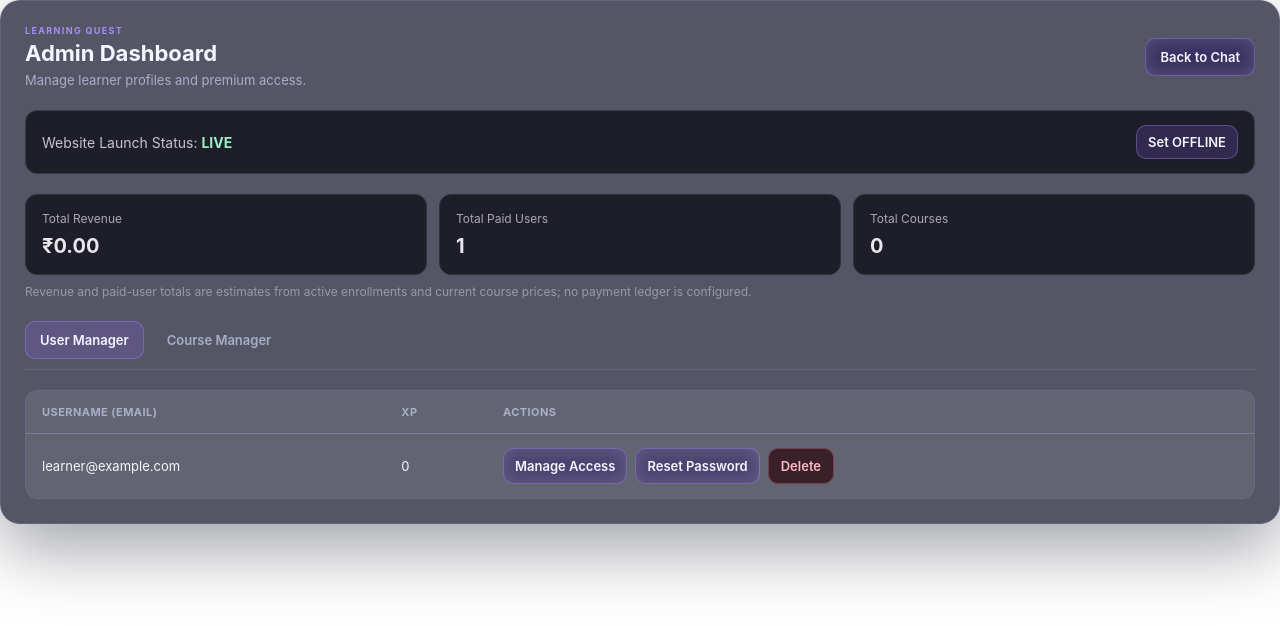
Scenario: confirms user deletion through the protected backend endpoint
This screenshot has width=1280, height=626.
Click the button "Delete" at (801, 466), box [768,448,834,484]
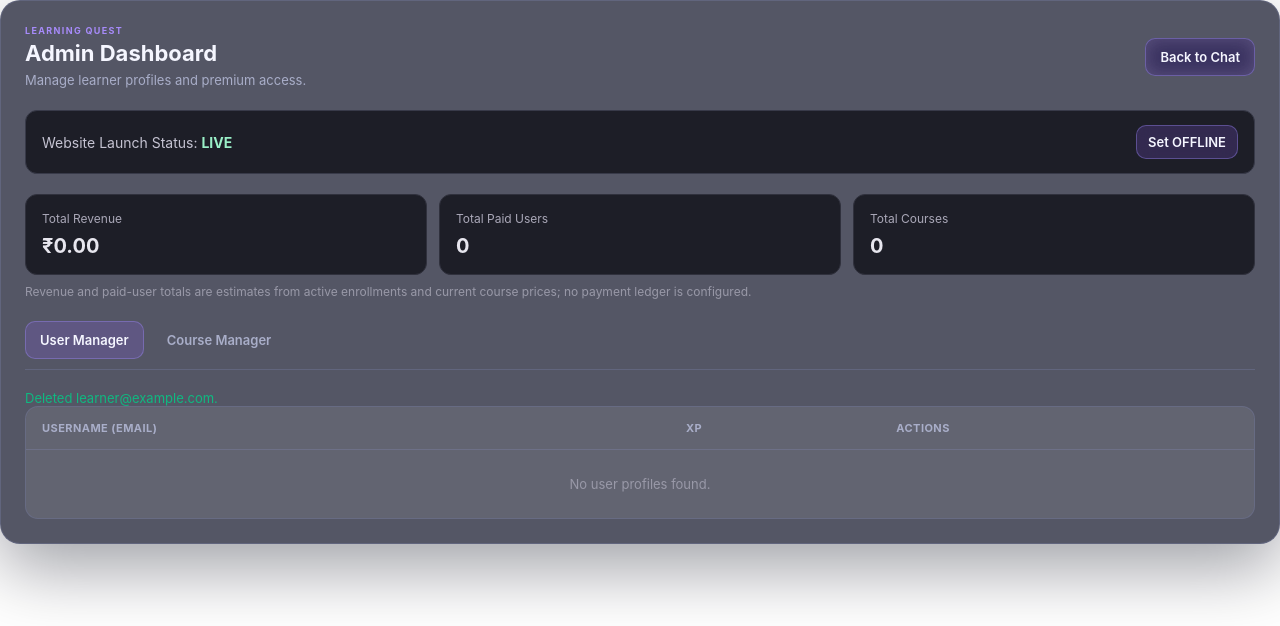
expect the text "No user profiles found." is shown: met, box [26,450,1254,518]
